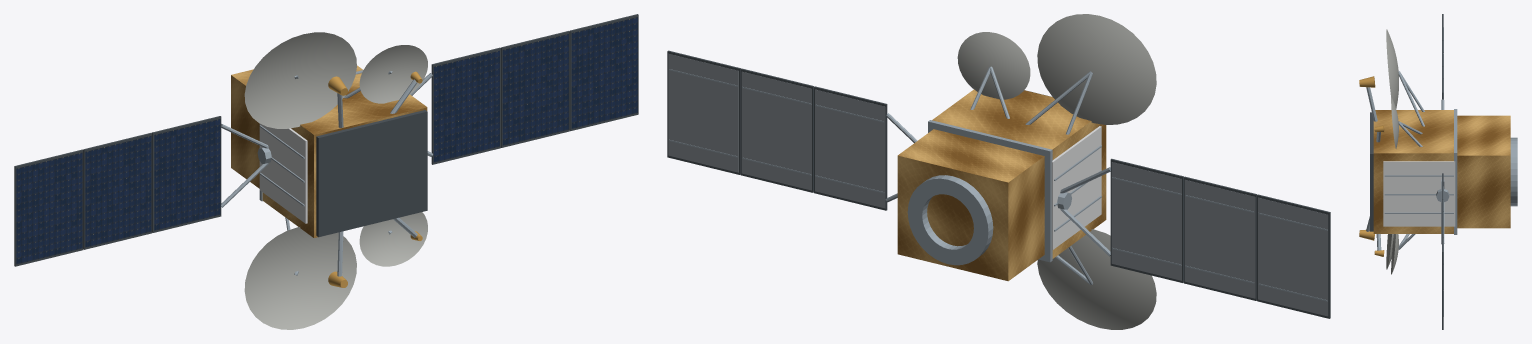
Rendered from ref-amos-23865.glb.
3 views of the same model, side by side, from view 1: azimuth 30°, elevation 25°; view 2: azimuth 150°, elevation 25°; view 3: azimuth 270°, elevation 25° (orthographic). The views are drawn at different scales.
Parts seen in each view (by area): view 1: Solar cell panel (×6), Communications reflector (×4), Earth-facing deck, Solar panel frame (×6), Payload module, Radiator face, Service module; view 2: Rear array substrate (×6), Communications reflector (×3), Service module, Payload module, Solar panel frame (×6), Launch adapter ring, Radiator face, Module interface; view 3: Service module, Payload module, Radiator face, Communications reflector (×4), Launch adapter ring, Earth-facing deck, Module interface, Feed horn (×2), Radiator seam (×2), Solar panel frame, Shell hinge strut, Offset feed boom.
Boxes of the visible parts, <box> form: Solar cell panel (×6): <box>16,17,637,264</box>; Communications reflector (×4): <box>244,32,427,329</box>; Earth-facing deck: <box>316,110,427,237</box>; Solar panel frame (×6): <box>14,14,638,266</box>; Payload module: <box>262,73,427,237</box>; Radiator face: <box>259,123,307,223</box>; Service module: <box>231,65,362,188</box>; Rear array substrate (×6): <box>668,53,1328,316</box>; Communications reflector (×3): <box>957,14,1156,329</box>; Service module: <box>897,129,1044,281</box>; Payload module: <box>932,89,1106,258</box>; Solar panel frame (×6): <box>667,50,1330,318</box>; Launch adapter ring: <box>907,175,993,265</box>; Radiator face: <box>1051,126,1101,249</box>; Module interface: <box>928,120,1052,262</box>; Service module: <box>1457,115,1510,228</box>; Payload module: <box>1373,110,1453,233</box>; Radiator face: <box>1383,161,1455,226</box>; Communications reflector (×4): <box>1386,29,1398,274</box>; Launch adapter ring: <box>1510,137,1517,206</box>; Earth-facing deck: <box>1370,112,1373,231</box>; Module interface: <box>1454,109,1457,234</box>; Feed horn (×2): <box>1359,76,1375,240</box>; Radiator seam (×2): <box>1384,175,1453,213</box>; Solar panel frame: <box>1442,225,1443,329</box>; Shell hinge strut: <box>1398,71,1424,126</box>; Offset feed boom: <box>1366,87,1377,121</box>.
Bounding box in the file's own units: 10.99 × 4.95 × 3.1.
Materials: 8 (2 with a texture image).
